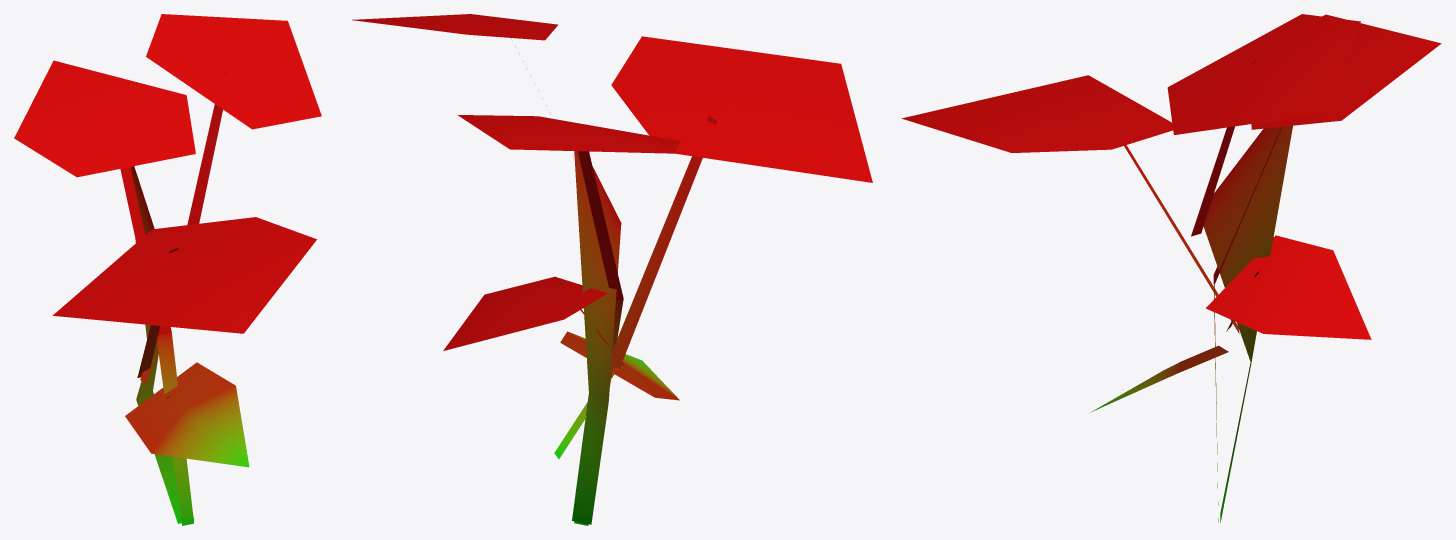
File: Var9_LOD4.fbx
The picture shows the model from 3 angles, left to right: view 1: azimuth 30°, elevation 25°; view 2: azimuth 150°, elevation 25°; view 3: azimuth 270°, elevation 25°; orthographic projection. The views are drawn at different scales.
Visible parts, largest first — view 1: _lqu8_Var9_LOD4; view 2: _lqu8_Var9_LOD4; view 3: _lqu8_Var9_LOD4.
Boxes of the visible parts, bbox=[...] form: _lqu8_Var9_LOD4: bbox=[14, 14, 321, 525]; _lqu8_Var9_LOD4: bbox=[352, 14, 872, 525]; _lqu8_Var9_LOD4: bbox=[901, 14, 1441, 522].
Bounding box in the file's own units: 14.84 × 18.95 × 17.82.
